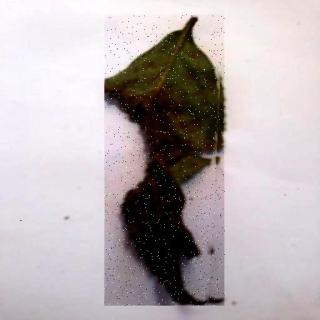Algal Leaf: (106, 16, 227, 307)
